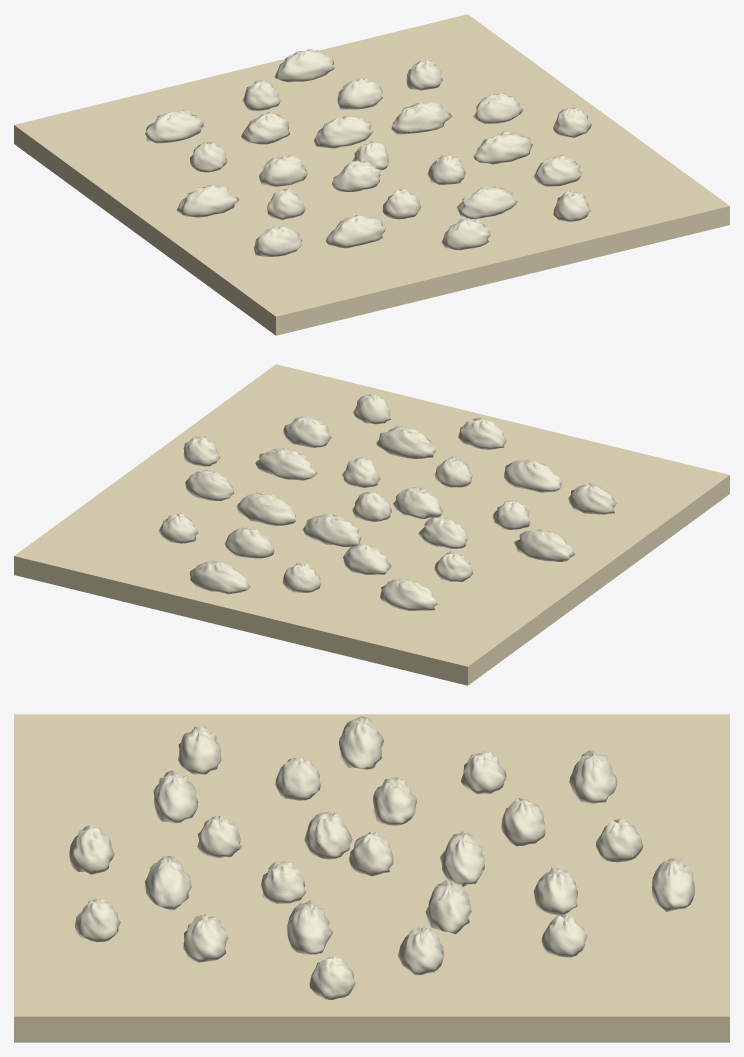
Rendered from underwater-reef-worlds-rubble-field-e0d228f7__7053.glb.
The picture shows the model from 3 angles, top to bottom: view 1: azimuth 30°, elevation 25°; view 2: azimuth 150°, elevation 25°; view 3: azimuth 270°, elevation 25°; orthographic projection. The views are drawn at different scales.
Visible parts, largest first — view 1: rubble-field; view 2: rubble-field; view 3: rubble-field.
Boxes of the visible parts, <box> form: rubble-field: <box>14,14,729,335</box>; rubble-field: <box>14,364,729,685</box>; rubble-field: <box>14,714,729,1042</box>.
Size of the model in its own units: 4 by 0.3577 by 4.
